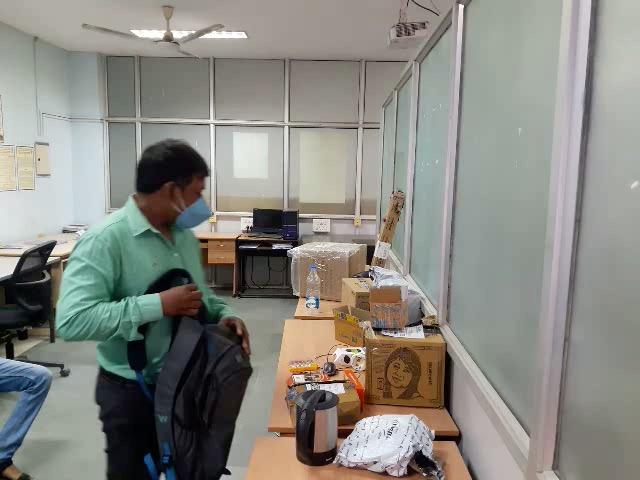shoplifting: (24, 245, 314, 479)
